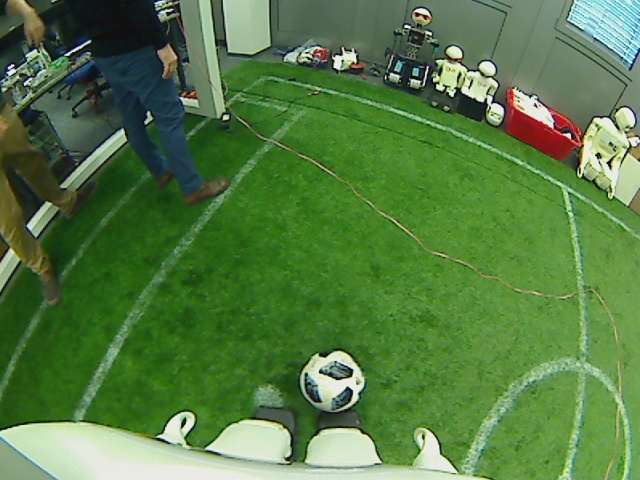ball: (296, 348, 366, 413)
